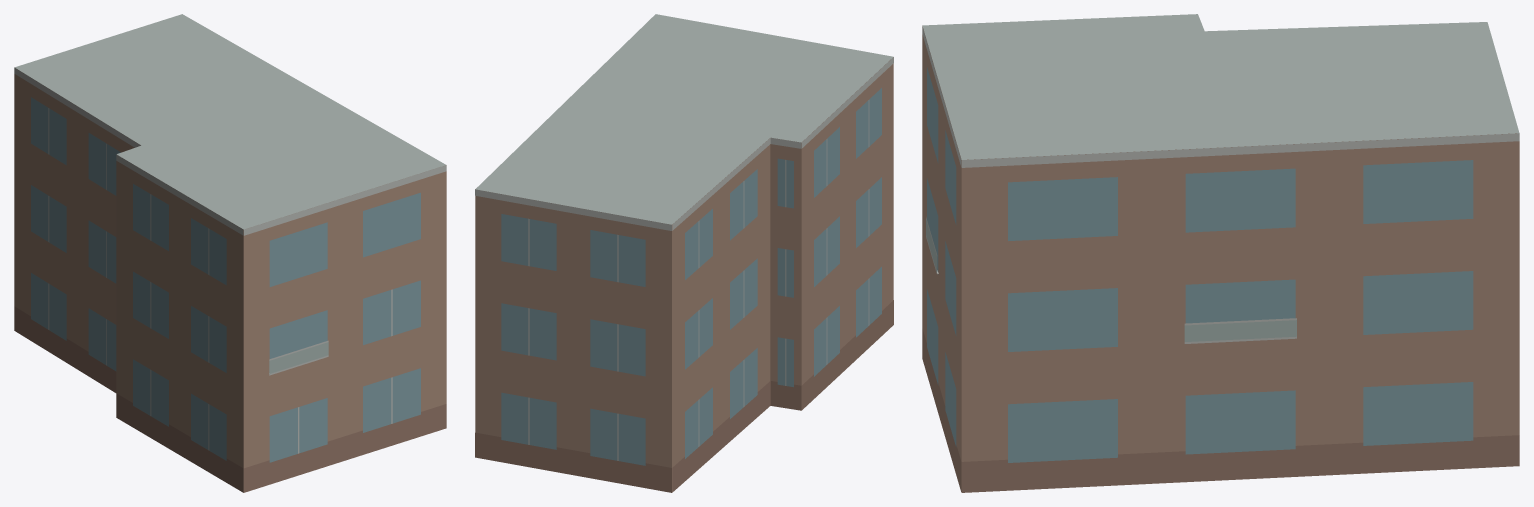
The model's file is survey-upis-32637576.glb.
3 renders of one model, left to right at view 1: azimuth 30°, elevation 25°; view 2: azimuth 150°, elevation 25°; view 3: azimuth 270°, elevation 25°, orthographic. The views are drawn at different scales.
Parts seen in each view (by area): view 1: survey-upis-32637576.tmp; view 2: survey-upis-32637576.tmp; view 3: survey-upis-32637576.tmp.
Boxes of the visible parts, x1,y1,x2,y2 form: survey-upis-32637576.tmp: (14,14,446,492); survey-upis-32637576.tmp: (475,14,893,492); survey-upis-32637576.tmp: (922,14,1519,492).
Size of the model in its own units: 9.61 by 10.2 by 16.6.
